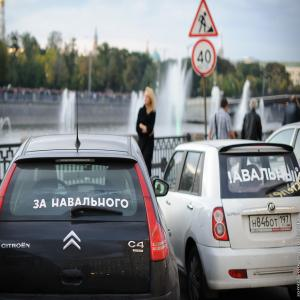Vehicle-registration-plate: (249, 215, 293, 234)
